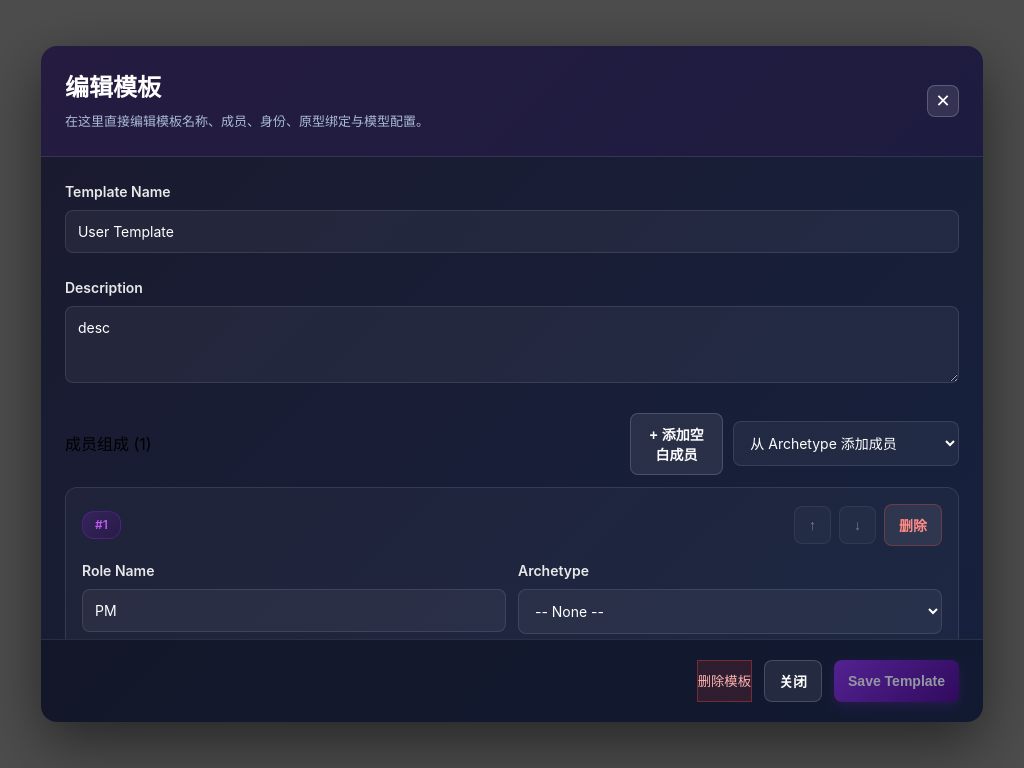
it: EditTemplateModal › blocks saving when template still references a missing provider
Replace the text in the field showing "User Template" below "Template Name" with "Updated Template" at (512, 231), box [65, 210, 959, 253]
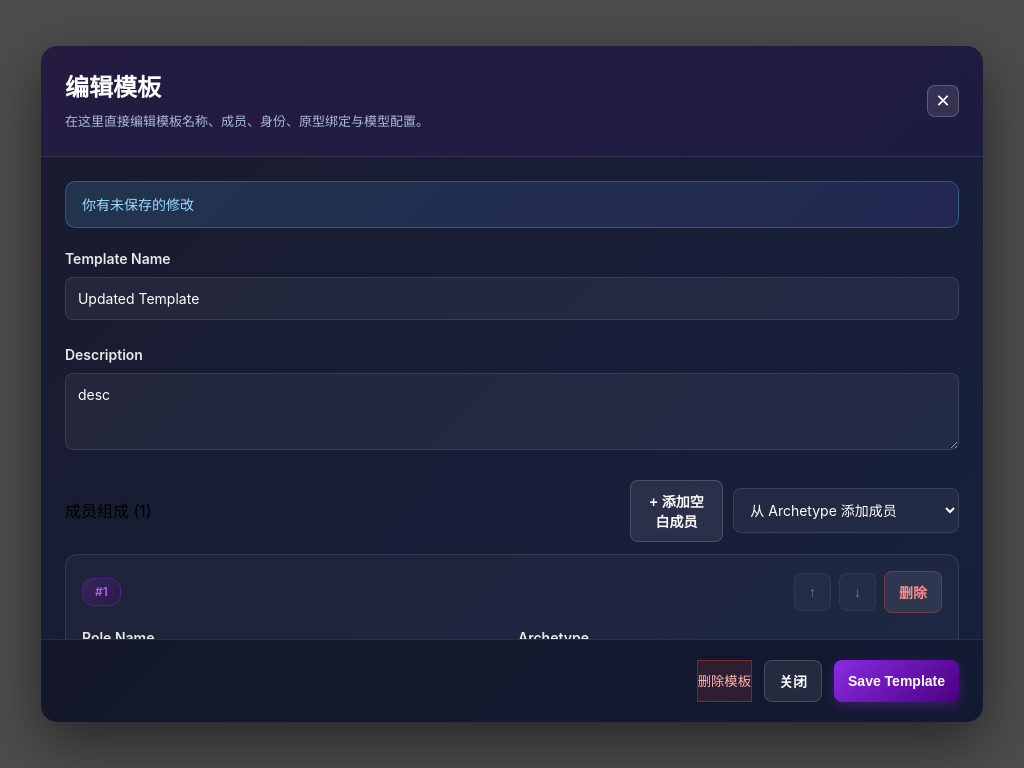
Check: the button "Save Template" is enabled
Click the button "Save Template" at (896, 681), box [834, 660, 959, 702]
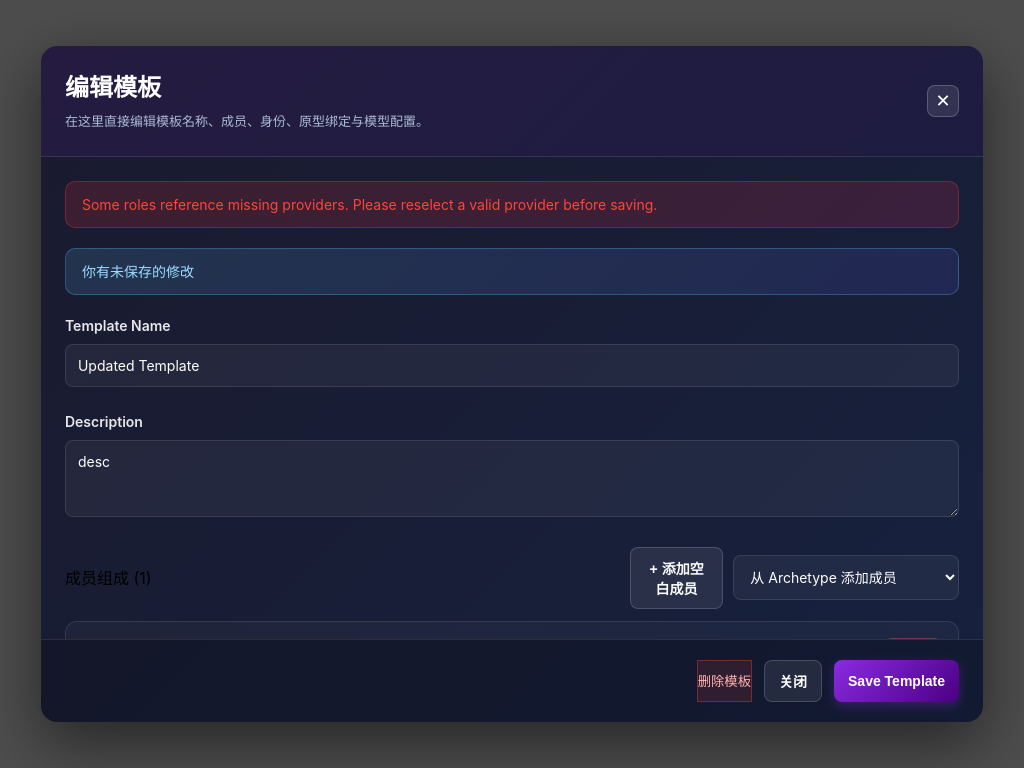
Check: the text "Some roles reference missing providers" is shown, box [82, 196, 658, 213]
